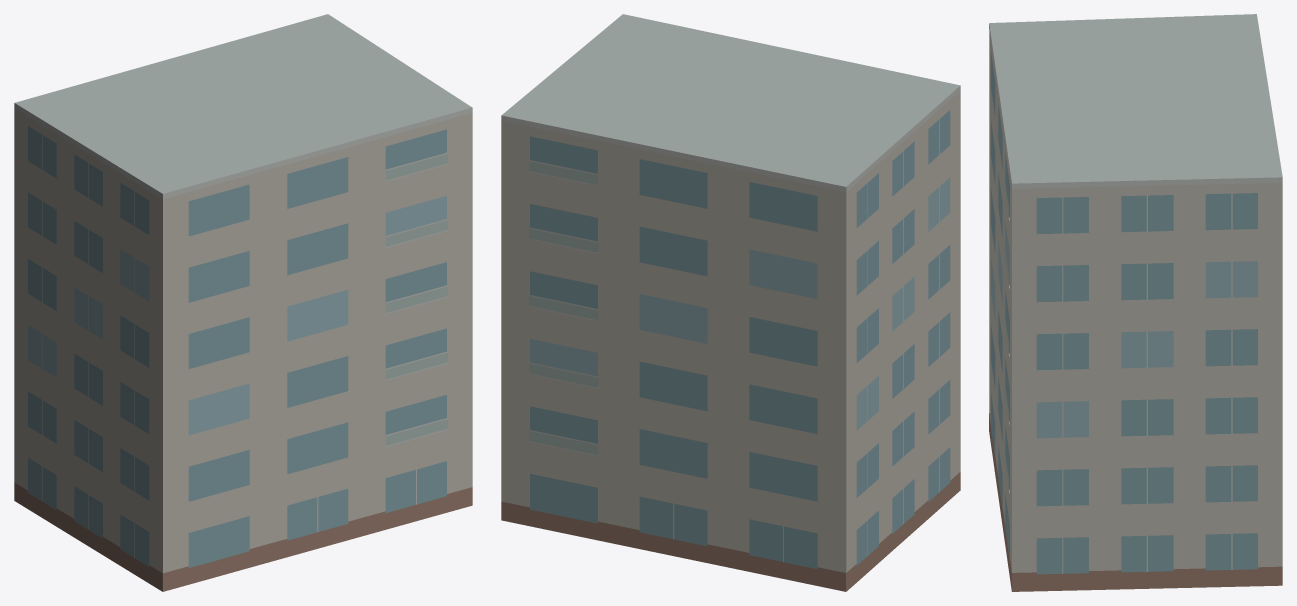
Rendered from survey-upis-32908090.glb.
3 views of the same model, side by side, from view 1: azimuth 30°, elevation 25°; view 2: azimuth 150°, elevation 25°; view 3: azimuth 270°, elevation 25° (orthographic). The views are drawn at different scales.
Visible parts, largest first — view 1: survey-upis-32908090.tmp; view 2: survey-upis-32908090.tmp; view 3: survey-upis-32908090.tmp.
Boxes of the visible parts, <box> form: survey-upis-32908090.tmp: <box>14,14,472,591</box>; survey-upis-32908090.tmp: <box>501,14,960,591</box>; survey-upis-32908090.tmp: <box>989,14,1282,591</box>.
Size of the model in its own units: 16.31 by 18.3 by 11.94.
